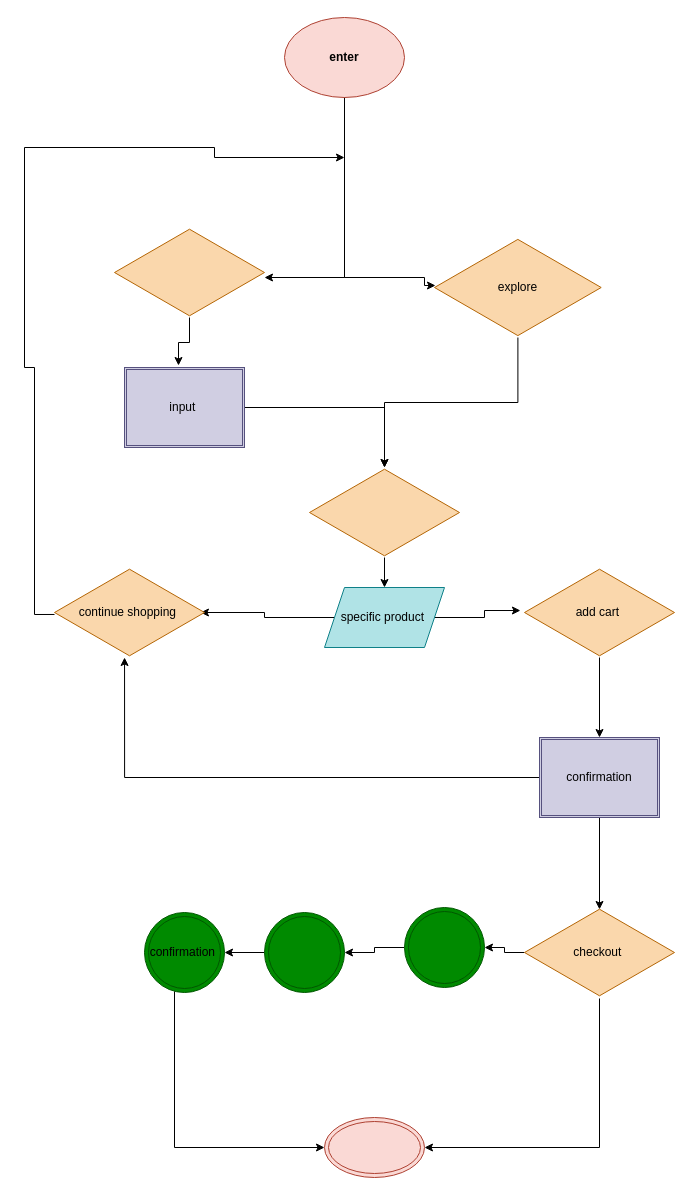
Some shapes in this 692 by 1195 pixel diagram are drawn without their labels. Here are the shapes that lost their labels. From the top down, the box of each, then its label:
(114, 226, 264, 318): search
(308, 466, 460, 558): look
(264, 912, 344, 992): payment
(404, 906, 484, 988): cart
(324, 1116, 424, 1178): leave
